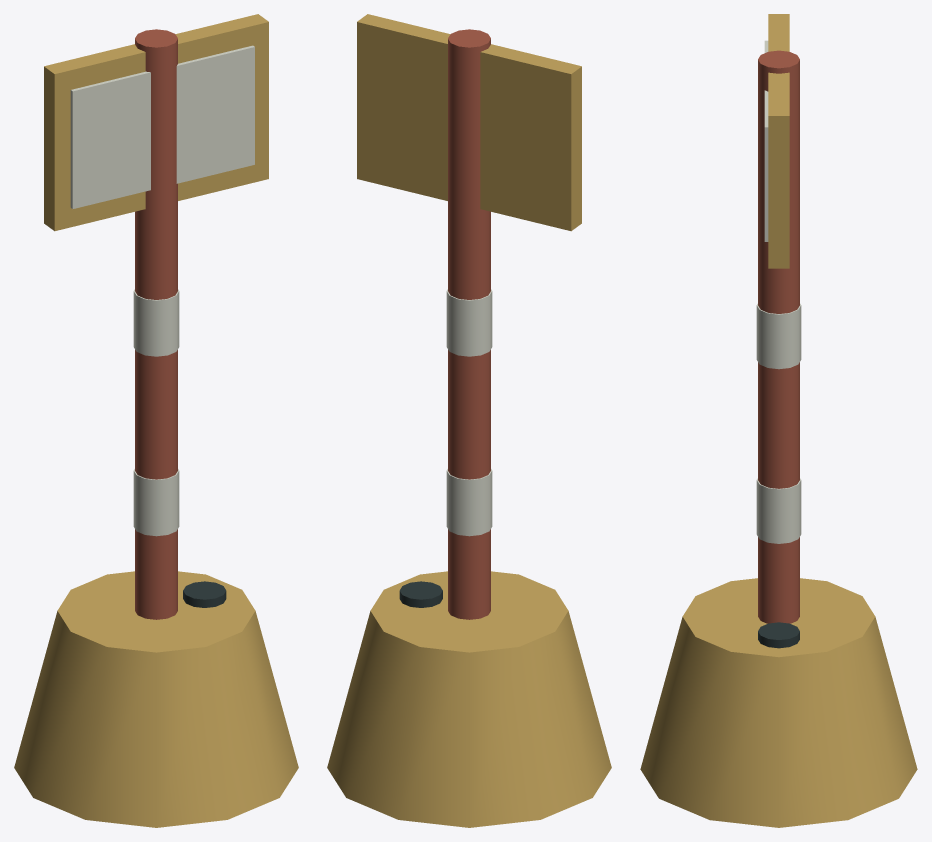
Rendered from legacy-107.glb.
3 renders of one model, left to right at view 1: azimuth 30°, elevation 25°; view 2: azimuth 150°, elevation 25°; view 3: azimuth 270°, elevation 25°, orthographic. The views are drawn at different scales.
Parts seen in each view (by area): view 1: part-1, part-4, part-2, part-3, part-7, part-6, part-5; view 2: part-1, part-3, part-2, part-7, part-6, part-5; view 3: part-1, part-2, part-3, part-6, part-7, part-5, part-4.
Boxes of the visible parts, x1,y1,x2,y2 form: part-1: [14, 571, 298, 827]; part-4: [70, 45, 254, 208]; part-2: [135, 29, 177, 619]; part-3: [44, 14, 268, 231]; part-7: [133, 289, 179, 356]; part-6: [133, 469, 179, 536]; part-5: [183, 581, 226, 607]; part-1: [327, 571, 611, 827]; part-3: [357, 14, 581, 231]; part-2: [448, 29, 490, 619]; part-7: [446, 289, 492, 356]; part-6: [446, 469, 492, 536]; part-5: [399, 581, 442, 607]; part-1: [640, 578, 917, 827]; part-2: [758, 50, 799, 623]; part-3: [768, 14, 789, 268]; part-6: [756, 478, 801, 543]; part-7: [756, 303, 801, 369]; part-5: [758, 622, 799, 648]; part-4: [764, 40, 768, 241].
Size of the model in its own units: 0.46 by 1.3 by 0.46.
